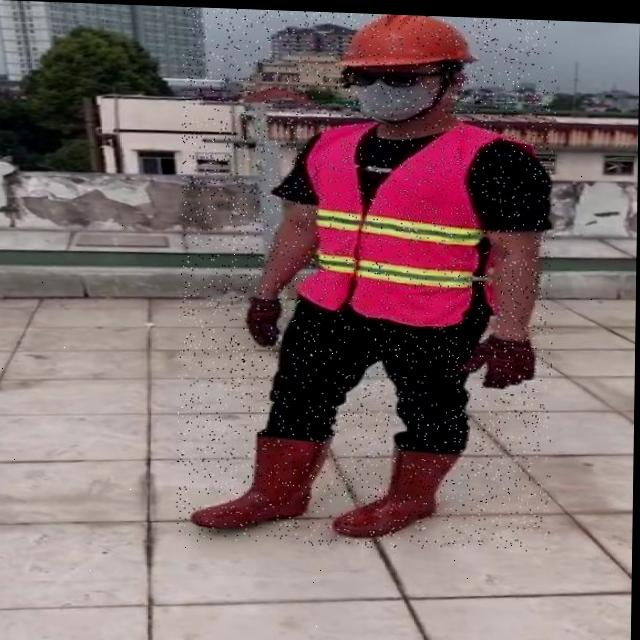Gloves: (466, 327, 537, 385), (246, 293, 282, 344)
Helmet: (338, 10, 477, 70)
Safety-Boot: (191, 423, 333, 530), (333, 426, 460, 537)
Safety-Vest: (292, 112, 532, 327)
